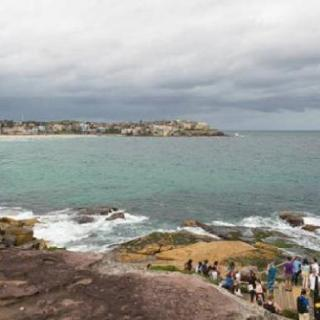Nimbostratus: (0, 0, 320, 136)
